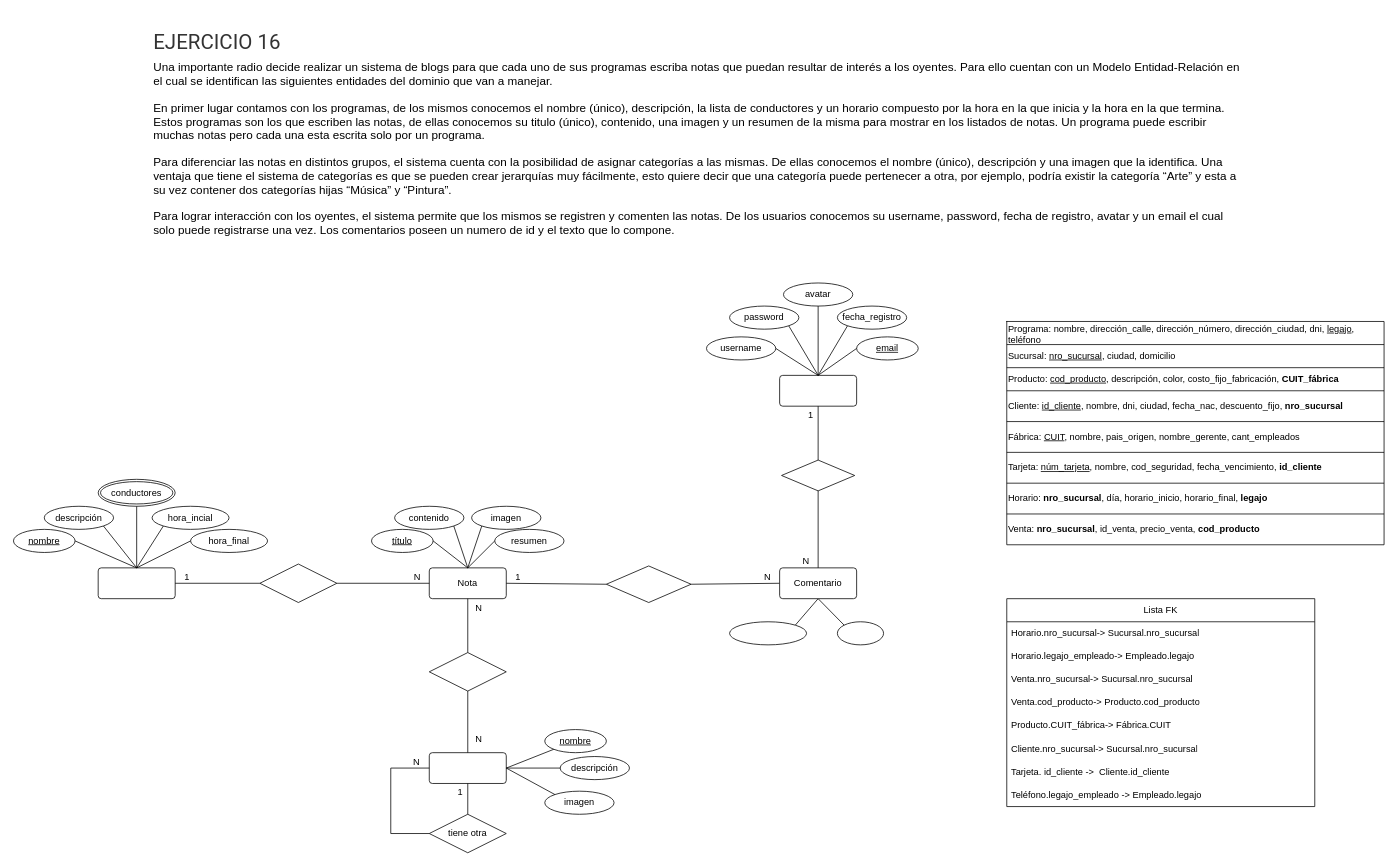
This 1398x866 diagram has some shape labels left out. The centre of each missing label's shape, as x and y in pixels:
Categoría: the point at 467,767
escribe: the point at 818,475
escriben: the point at 298,583
id_comentario: the point at 768,633
pertenece: the point at 467,671
Programa: the point at 136,583
puede tener: the point at 648,584
texto: the point at 860,633
Usuario: the point at 818,390
